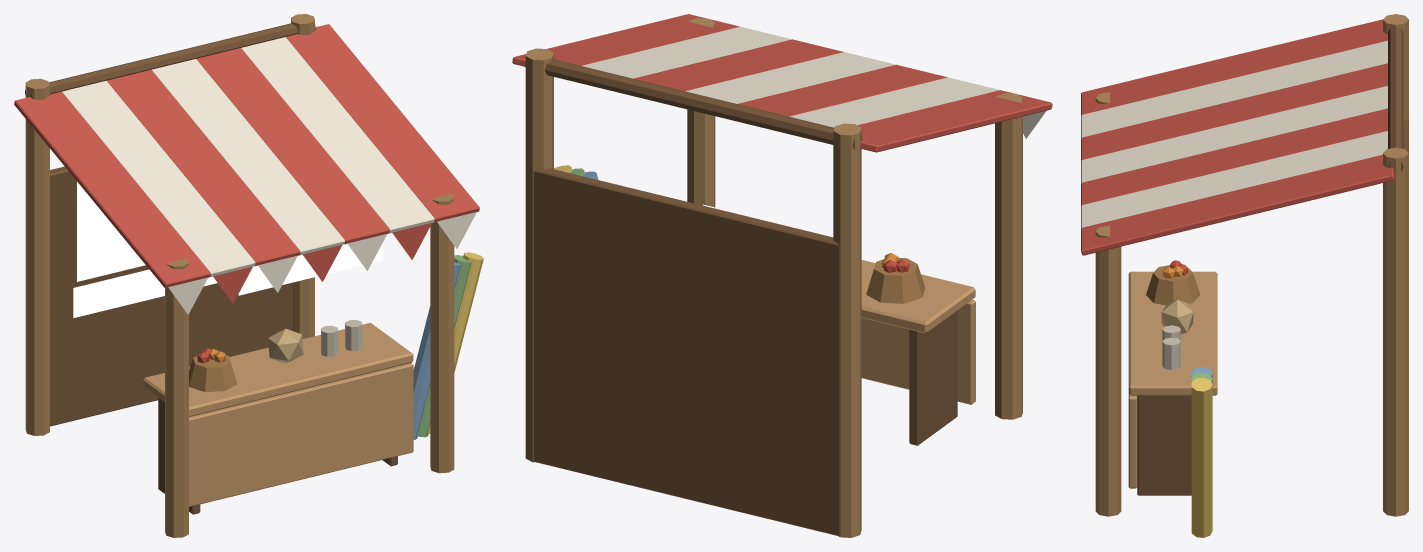
File: echo_world_market_stall.glb
The picture shows the model from 3 angles, left to right: view 1: azimuth 30°, elevation 25°; view 2: azimuth 150°, elevation 25°; view 3: azimuth 270°, elevation 25°; orthographic projection. The views are drawn at different scales.
Parts seen in each view (by area): view 1: MESH_BackWall, MESH_CounterFront, AWNING_Stripe_01, AWNING_Stripe_05, AWNING_Stripe_06, AWNING_Stripe_02, AWNING_Stripe_03, AWNING_Stripe_04, AWNING_Stripe_07, MESH_CounterTop, STALL_Post_Back_L, STALL_Post_Front_R (+19 smaller); view 2: MESH_BackWall, STALL_Post_Back_L, STALL_Post_Front_L, STALL_Post_Back_R, AWNING_Stripe_01, MESH_CounterLeg_L, STALL_Beam_Back, MESH_CounterFront, AWNING_Stripe_05, AWNING_Stripe_04, AWNING_Stripe_03, AWNING_Stripe_06 (+5 smaller); view 3: STALL_Post_Back_R, AWNING_Stripe_07, MESH_CounterTop, STALL_Post_Front_R, AWNING_Stripe_04, AWNING_Stripe_02, AWNING_Stripe_05, AWNING_Stripe_03, AWNING_Stripe_06, AWNING_Stripe_01, MESH_CounterLeg_R, PROP_Bolt_03 (+6 smaller).
Part boxes in pixels (x1,y1,x2,y2): MESH_BackWall: [50, 166, 291, 426]; MESH_CounterFront: [189, 363, 413, 506]; AWNING_Stripe_01: [14, 91, 210, 288]; AWNING_Stripe_05: [196, 48, 389, 244]; AWNING_Stripe_06: [241, 37, 434, 233]; AWNING_Stripe_02: [62, 80, 255, 276]; AWNING_Stripe_03: [107, 70, 300, 266]; AWNING_Stripe_04: [152, 59, 344, 255]; AWNING_Stripe_07: [286, 24, 479, 222]; MESH_CounterTop: [143, 322, 413, 416]; STALL_Post_Back_L: [25, 78, 49, 435]; STALL_Post_Front_R: [430, 193, 454, 473]; MESH_BackWall: [533, 168, 839, 535]; STALL_Post_Back_L: [833, 123, 861, 537]; STALL_Post_Front_L: [995, 93, 1022, 419]; STALL_Post_Back_R: [525, 48, 553, 462]; AWNING_Stripe_01: [857, 90, 1052, 152]; MESH_CounterLeg_L: [909, 310, 957, 445]; STALL_Beam_Back: [525, 59, 862, 149]; MESH_CounterFront: [861, 299, 975, 404]; AWNING_Stripe_05: [633, 39, 843, 91]; AWNING_Stripe_04: [685, 52, 895, 103]; AWNING_Stripe_03: [738, 64, 947, 116]; AWNING_Stripe_06: [582, 26, 791, 78]; STALL_Post_Back_R: [1383, 147, 1408, 516]; AWNING_Stripe_07: [1081, 154, 1394, 255]; MESH_CounterTop: [1128, 271, 1217, 395]; STALL_Post_Front_R: [1095, 225, 1121, 516]; AWNING_Stripe_04: [1081, 86, 1387, 183]; AWNING_Stripe_02: [1081, 40, 1387, 138]; AWNING_Stripe_05: [1081, 108, 1387, 205]; AWNING_Stripe_03: [1081, 63, 1387, 160]; AWNING_Stripe_06: [1081, 131, 1387, 228]; AWNING_Stripe_01: [1081, 19, 1387, 115]; MESH_CounterLeg_R: [1137, 395, 1191, 495]; PROP_Bolt_03: [1191, 377, 1212, 537].
Bounding box in the file's own units: 3.11 × 2.8 × 2.28.
